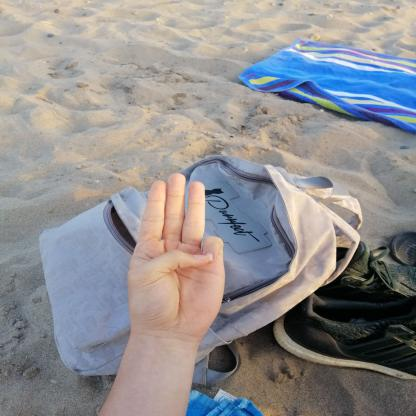THA: (112, 164, 235, 349)
